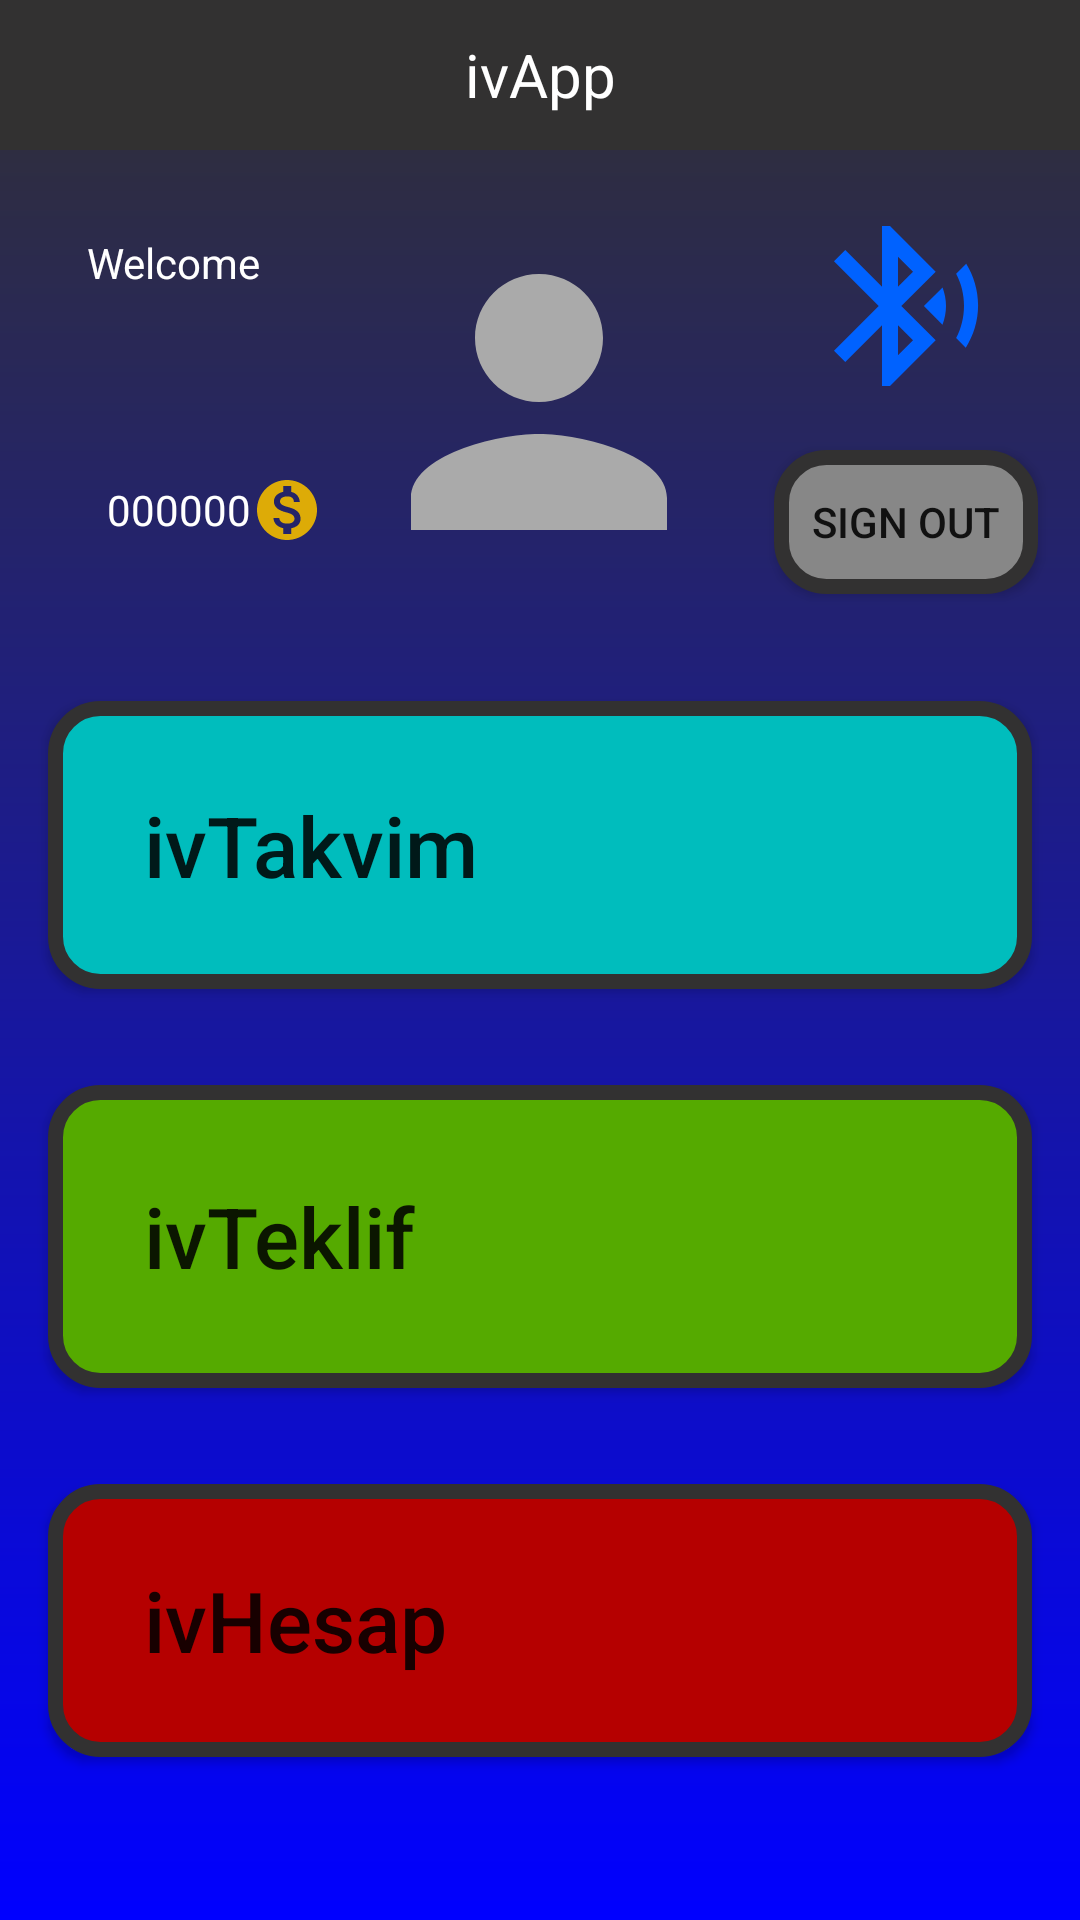

Where icons sit on this 1080px x 1920px app screen, as (x1, y1, x2, y2):
monetization on: (257, 480, 317, 540)
